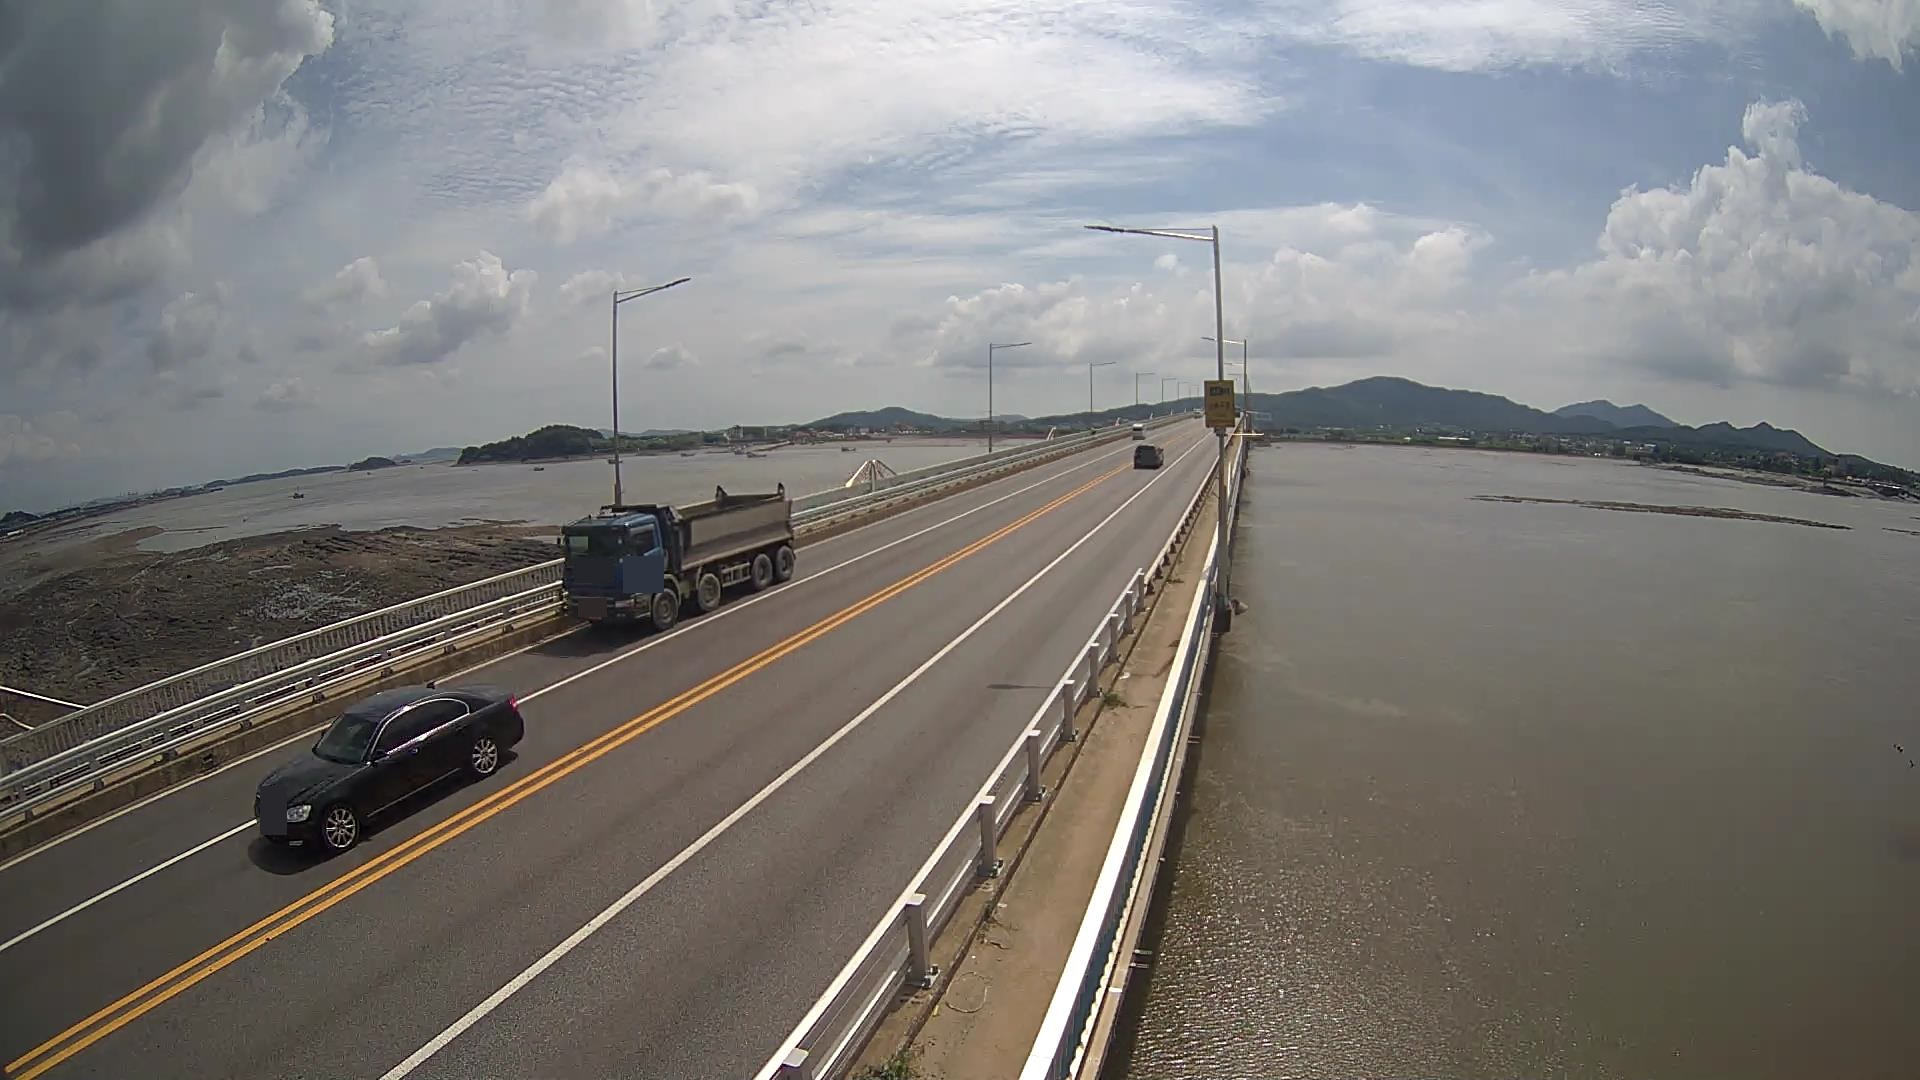정상차량: (556, 483, 796, 629)
